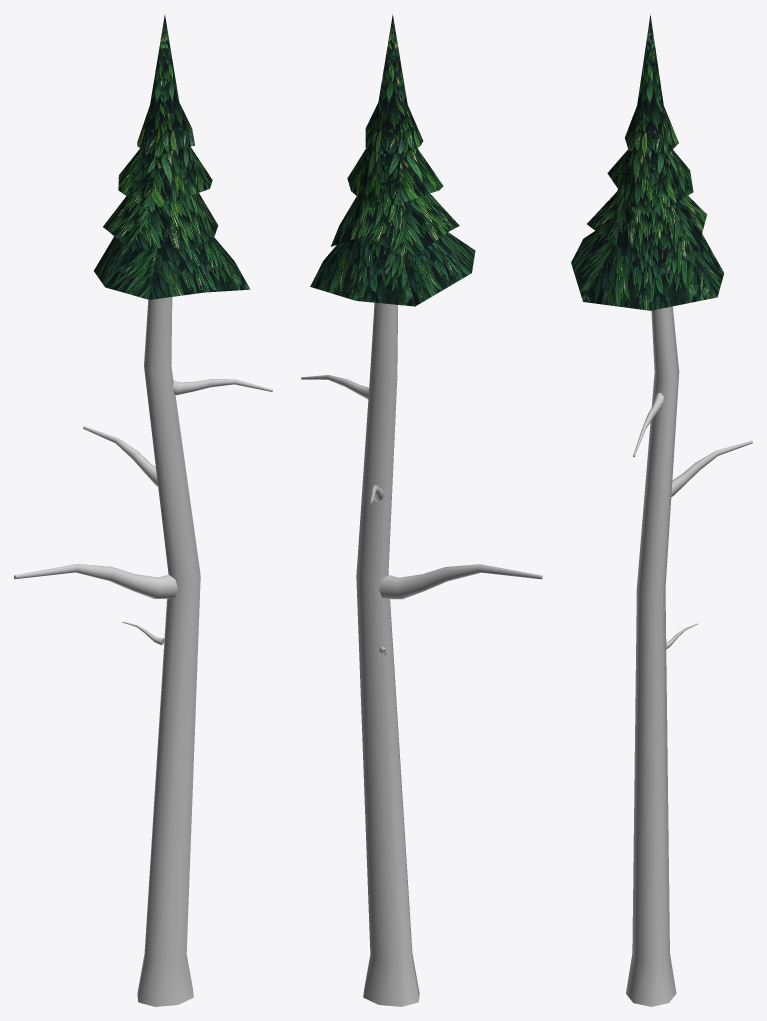
File: ArbolCinco.fbx
The picture shows the model from 3 angles, left to right: view 1: azimuth 30°, elevation 25°; view 2: azimuth 150°, elevation 25°; view 3: azimuth 270°, elevation 25°; orthographic projection.
Parts seen in each view (by area): view 1: Object064; view 2: Object064; view 3: Object064.
Boxes of the visible parts, x1,y1,x2,y2 form: Object064: (14, 15, 272, 1006); Object064: (301, 14, 542, 1006); Object064: (571, 14, 752, 1006).
Size of the model in its own units: 0.3124 by 1.17 by 0.1976.
